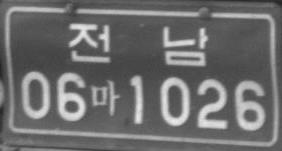0: (159, 76, 191, 126), (21, 70, 50, 119)
1: (124, 74, 153, 124)
2: (196, 77, 229, 129)
6: (234, 79, 265, 131), (56, 71, 87, 122)
마: (90, 78, 120, 116)
전남_D: (68, 22, 208, 66)
